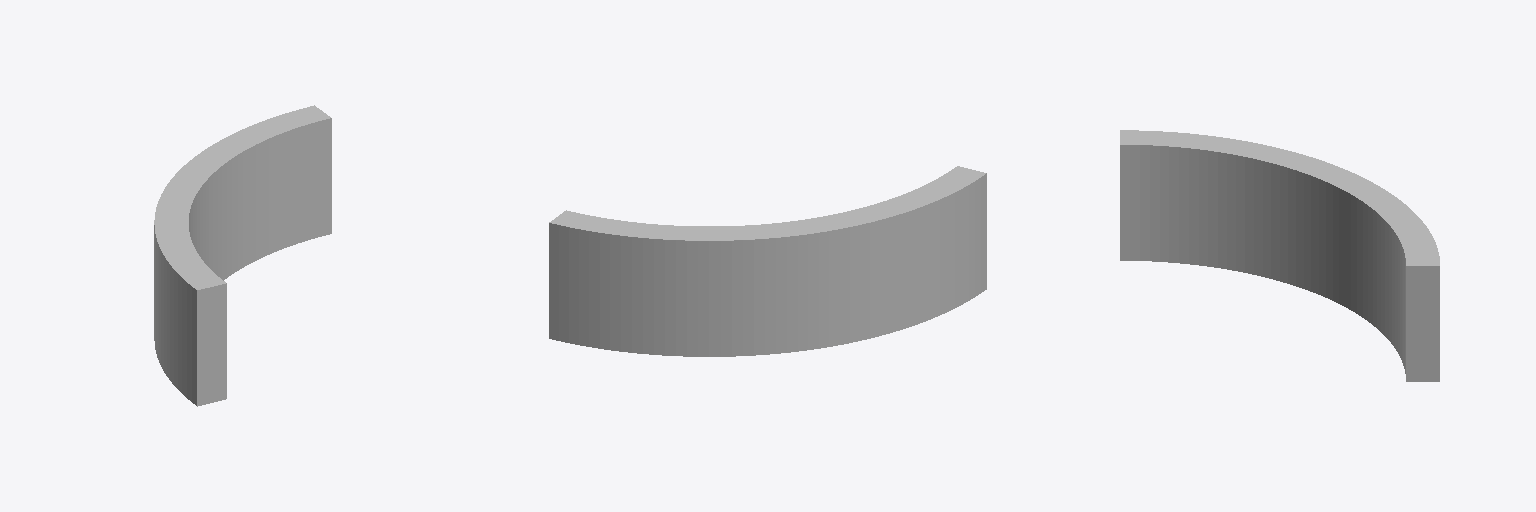
The model's file is Corner-Board.obj.
3 views of the same model, side by side, from view 1: azimuth 30°, elevation 25°; view 2: azimuth 150°, elevation 25°; view 3: azimuth 270°, elevation 25° (orthographic).
Visible parts, largest first — view 1: Cube; view 2: Cube; view 3: Cube.
Part boxes in pixels (x1,y1,x2,y2): Cube: (154, 105, 331, 406); Cube: (549, 166, 986, 356); Cube: (1120, 130, 1439, 381).
Bounding box in the file's own units: 3.75 × 1.5 × 3.75.